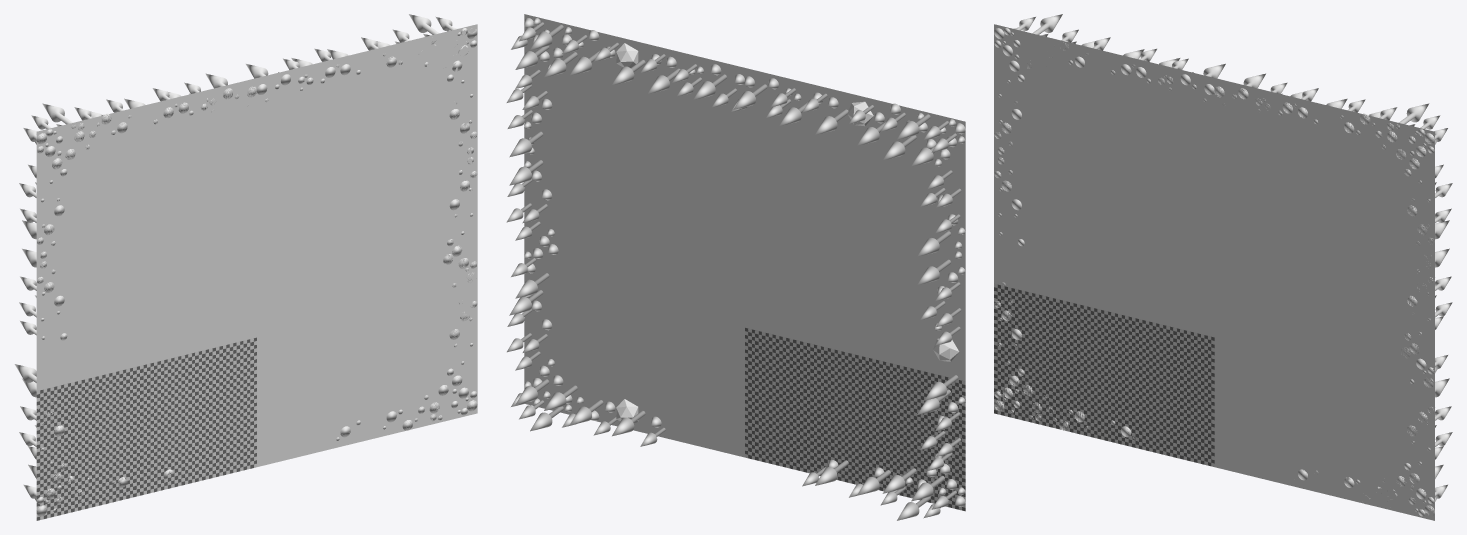
The model's file is forest12.dae.
3 views of the same model, side by side, from view 1: azimuth 30°, elevation 25°; view 2: azimuth 150°, elevation 25°; view 3: azimuth 330°, elevation 25° (orthographic).
Parts seen in each view (by area): view 1: Plane.022, Plane.021, Plane.020, Plane.019, Plane.018, Plane.017; view 2: Plane.021, Plane.022, Plane.018, Plane.020, Plane.019, Plane.017; view 3: Plane.021, Plane.022, Plane.018, Plane.017, Plane.020, Plane.019.
Boxes of the visible parts, x1=… form: Plane.022: x1=36, y1=208, x2=256, y2=390; Plane.021: x1=257, y1=154, x2=477, y2=337; Plane.020: x1=36, y1=337, x2=256, y2=520; Plane.019: x1=36, y1=78, x2=256, y2=261; Plane.018: x1=257, y1=283, x2=477, y2=466; Plane.017: x1=257, y1=24, x2=477, y2=207; Plane.021: x1=524, y1=146, x2=744, y2=327; Plane.022: x1=745, y1=198, x2=965, y2=381; Plane.018: x1=524, y1=274, x2=744, y2=457; Plane.020: x1=745, y1=327, x2=965, y2=511; Plane.019: x1=745, y1=68, x2=965, y2=251; Plane.017: x1=524, y1=14, x2=744, y2=197; Plane.021: x1=1214, y1=208, x2=1434, y2=390; Plane.022: x1=994, y1=154, x2=1214, y2=337; Plane.018: x1=1214, y1=337, x2=1434, y2=520; Plane.017: x1=1214, y1=78, x2=1434, y2=261; Plane.020: x1=994, y1=283, x2=1214, y2=466; Plane.019: x1=994, y1=24, x2=1214, y2=207.
Size of the model in its own units: 128 by 16 by 110.
2 materials, 1 textured.
